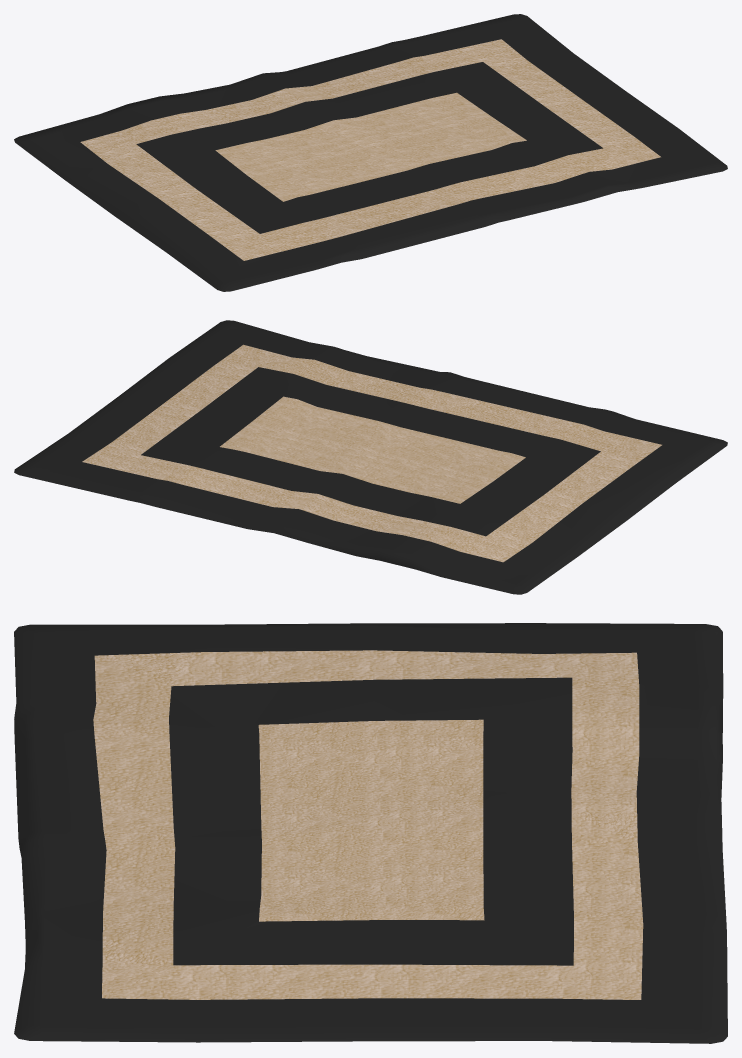
File: carpet_018.fbx
3 views of the same model, one above another, from view 1: azimuth 30°, elevation 25°; view 2: azimuth 150°, elevation 25°; view 3: azimuth 270°, elevation 25° (orthographic). The views are drawn at different scales.
Parts seen in each view (by area): view 1: carpet_018; view 2: carpet_018; view 3: carpet_018.
Part boxes in pixels (x1,y1,x2,y2): carpet_018: (14,14,727,291); carpet_018: (14,320,727,594); carpet_018: (14,623,727,1043).
Size of the model in its own units: 167 by 120 by 3.02.
